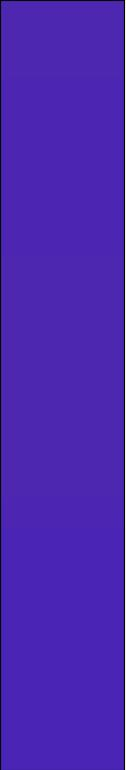safe: (13, 11, 118, 758)
